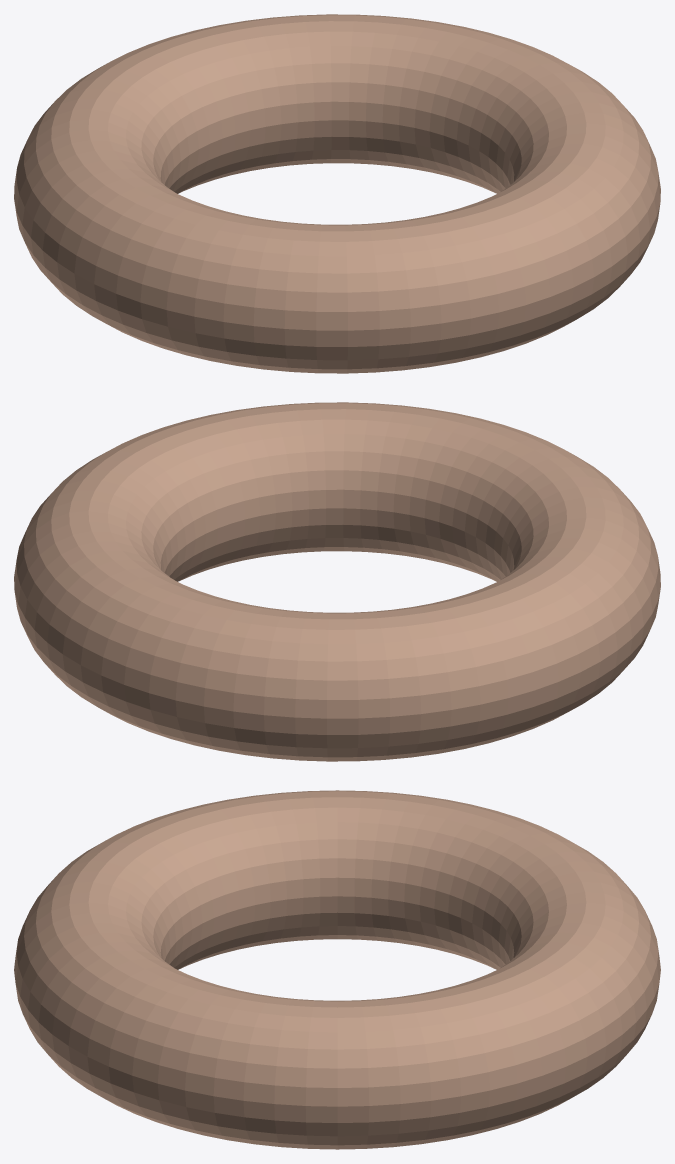
File: ground-truth.glb
3 views of the same model, one above another, from view 1: azimuth 30°, elevation 25°; view 2: azimuth 150°, elevation 25°; view 3: azimuth 270°, elevation 25° (orthographic).
Parts seen in each view (by area): view 1: original_00; view 2: original_00; view 3: original_00.
Part boxes in pixels (box(x1,y1,x2,y2)): original_00: box(14, 14, 660, 373); original_00: box(14, 402, 660, 761); original_00: box(14, 790, 660, 1149).
Size of the model in its own units: 2.08 by 0.48 by 2.08.
